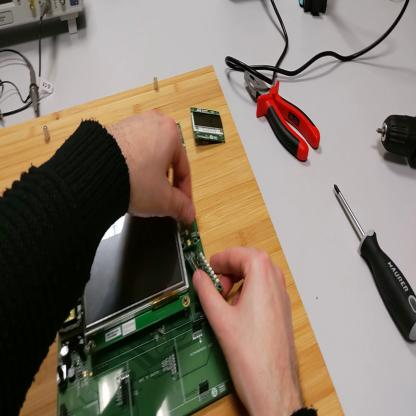electric screwdriver: (376, 110, 416, 173)
hand: (193, 245, 303, 415), (109, 107, 196, 230)
low voltage board: (59, 213, 235, 416)
oscilloscope: (2, 1, 86, 41)
oscilloscope probe tip: (28, 58, 41, 118)
pliers: (242, 71, 321, 164)
screwdriver-: (333, 186, 416, 343)
welder base: (300, 1, 329, 20)
working area: (2, 65, 346, 415)
